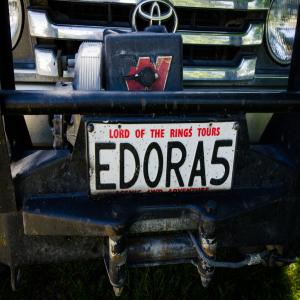Vehicle-registration-plate: (75, 113, 247, 205)
